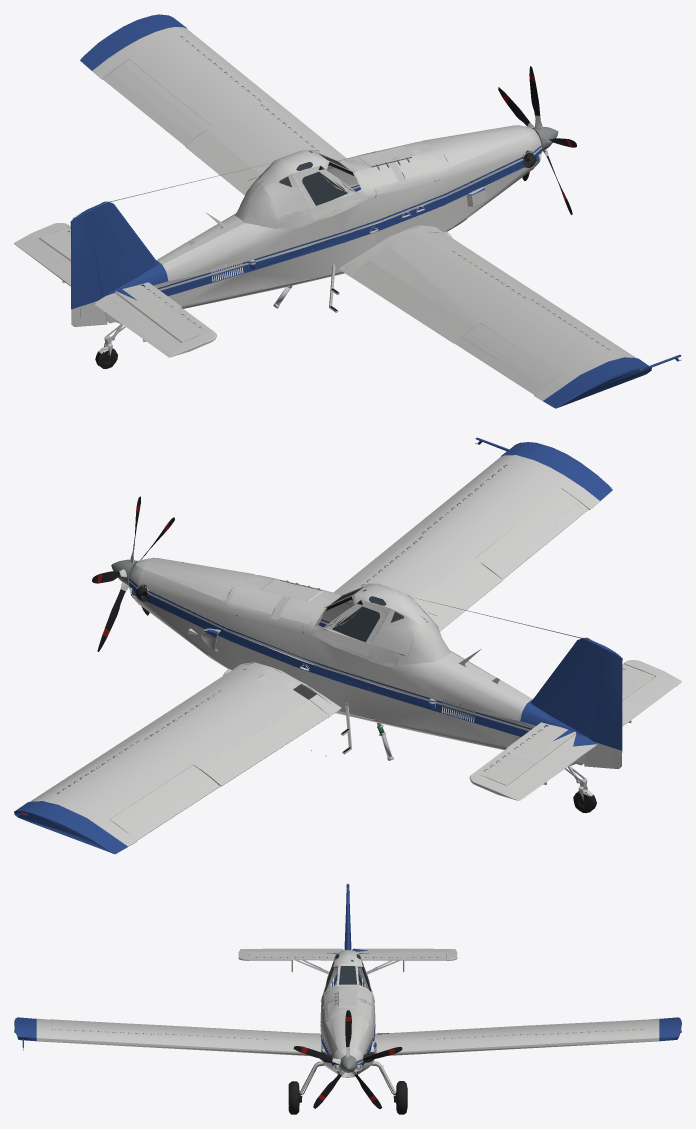
3 views of the same model, one above another, from view 1: azimuth 30°, elevation 25°; view 2: azimuth 150°, elevation 25°; view 3: azimuth 270°, elevation 25° (orthographic). The views are drawn at different scales.
Parts seen in each view (by area): view 1: exterior, helice; view 2: exterior, helice; view 3: exterior, helice.
Part boxes in pixels (x1,y1,x2,y2): exterior: (14,14,681,408); helice: (498,66,576,214); exterior: (14,437,681,854); helice: (92,496,174,651); exterior: (14,883,681,1114); helice: (293,1010,402,1108).
Size of the model in its own units: 10.51 by 4.07 by 18.06.
